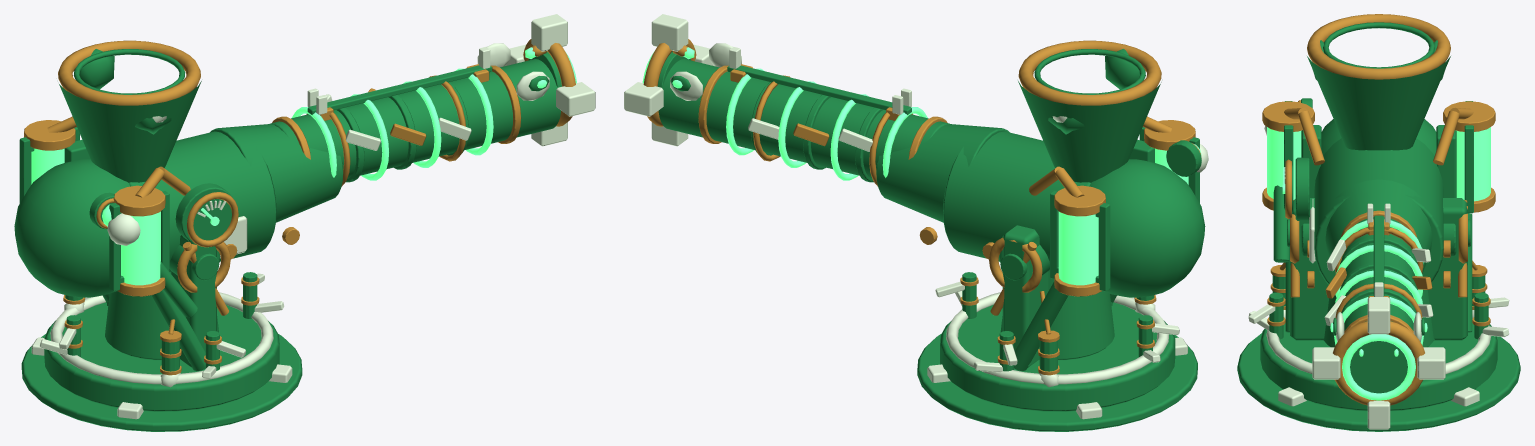
Rendered from slop-cannon-bamboo-guardian.glb.
The picture shows the model from 3 angles, left to right: view 1: azimuth 30°, elevation 25°; view 2: azimuth 150°, elevation 25°; view 3: azimuth 270°, elevation 25°; orthographic projection.
Visible parts, largest first — view 1: CannonRecoilRender, CannonRootRender, CannonYawRender, CANNON_V3_AmmoGlowMesh, CANNON_V3_ChargeGlowMesh; view 2: CannonRecoilRender, CannonRootRender, CannonYawRender, CANNON_V3_AmmoGlowMesh, CANNON_V3_ChargeGlowMesh; view 3: CannonRecoilRender, CannonRootRender, CannonYawRender, CANNON_V3_AmmoGlowMesh, CANNON_V3_ChargeGlowMesh, CANNON_V3_MuzzleGlowMesh.
Boxes of the visible parts, box(x1,y1,x2,y2) form: CannonRecoilRender: box(14, 14, 595, 317); CannonRootRender: box(21, 271, 302, 431); CannonYawRender: box(63, 235, 230, 387); CANNON_V3_AmmoGlowMesh: box(31, 148, 160, 285); CANNON_V3_ChargeGlowMesh: box(292, 47, 546, 180); CannonRecoilRender: box(624, 14, 1208, 297); CannonRootRender: box(917, 271, 1197, 431); CannonYawRender: box(989, 225, 1156, 387); CANNON_V3_AmmoGlowMesh: box(1058, 148, 1188, 285); CANNON_V3_ChargeGlowMesh: box(672, 47, 927, 180); CannonRecoilRender: box(1262, 14, 1495, 429); CannonRootRender: box(1237, 290, 1520, 431); CannonYawRender: box(1270, 198, 1487, 341); CANNON_V3_AmmoGlowMesh: box(1267, 127, 1490, 201); CANNON_V3_ChargeGlowMesh: box(1330, 220, 1427, 345); CANNON_V3_MuzzleGlowMesh: box(1342, 334, 1415, 400).
Size of the model in its own units: 4.66 by 2.59 by 2.1.
